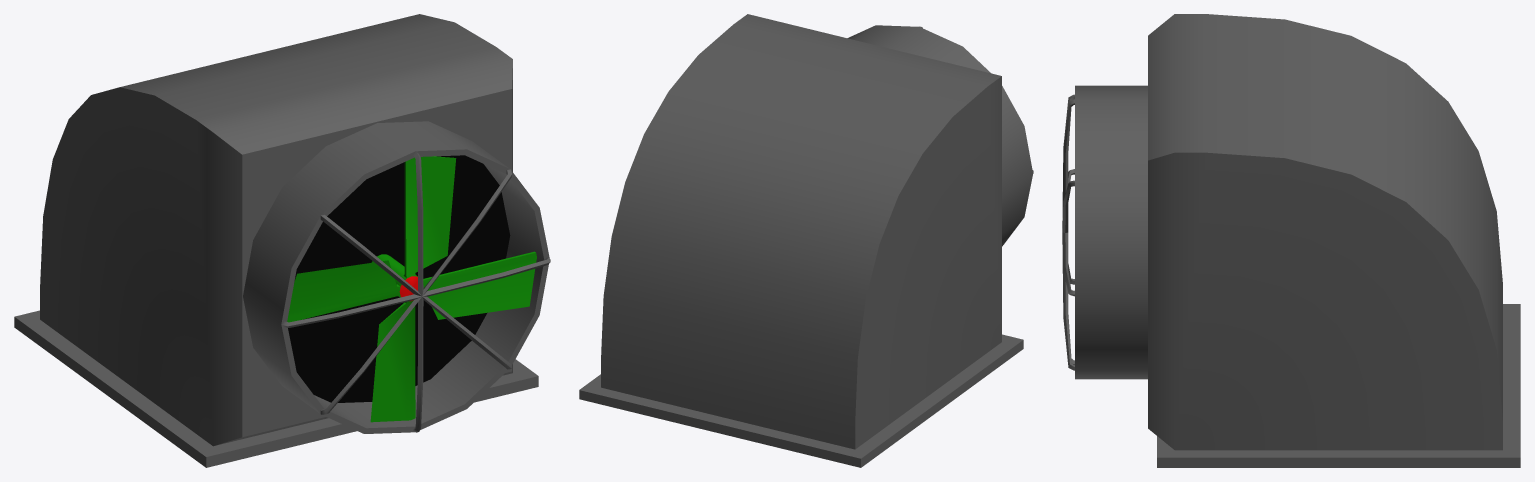
Rendered from ART-MOD-A-VENT-001.FBX.
The picture shows the model from 3 angles, left to right: view 1: azimuth 30°, elevation 25°; view 2: azimuth 150°, elevation 25°; view 3: azimuth 270°, elevation 25°; orthographic projection. The views are drawn at different scales.
Visible parts, largest first — view 1: Box001; view 2: Box001; view 3: Box001.
Part boxes in pixels (box(x1,y1,x2,y2)): Box001: box(14, 14, 550, 467); Box001: box(579, 14, 1033, 467); Box001: box(1062, 14, 1520, 467).
Size of the model in its own units: 44.33 by 41.38 by 55.84.
